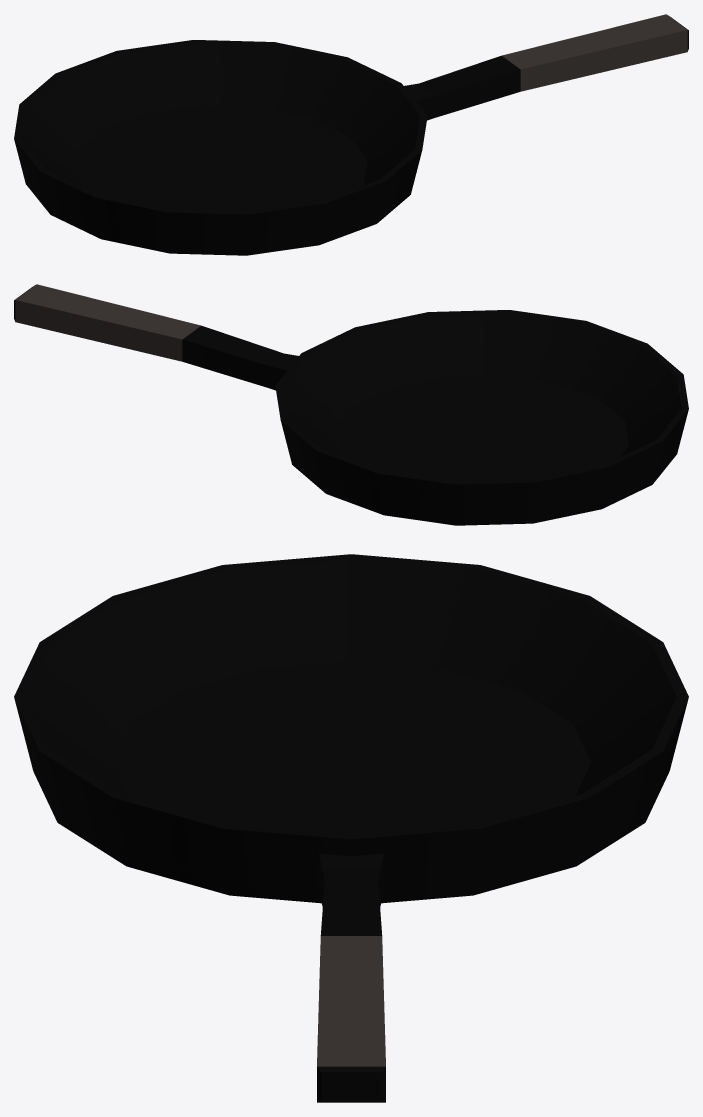
The model's file is LP_pan_2.glb.
3 views of the same model, one above another, from view 1: azimuth 30°, elevation 25°; view 2: azimuth 150°, elevation 25°; view 3: azimuth 270°, elevation 25° (orthographic). The views are drawn at different scales.
Parts seen in each view (by area): view 1: LP_pan_2.001; view 2: LP_pan_2.001; view 3: LP_pan_2.001.
Boxes of the visible parts, x1=… form: LP_pan_2.001: x1=14, y1=14, x2=688, y2=255; LP_pan_2.001: x1=14, y1=284, x2=688, y2=525; LP_pan_2.001: x1=14, y1=554, x2=688, y2=1102.
Size of the model in its own units: 0.4531 by 0.0312 by 0.256.
1 material, 1 textured.
